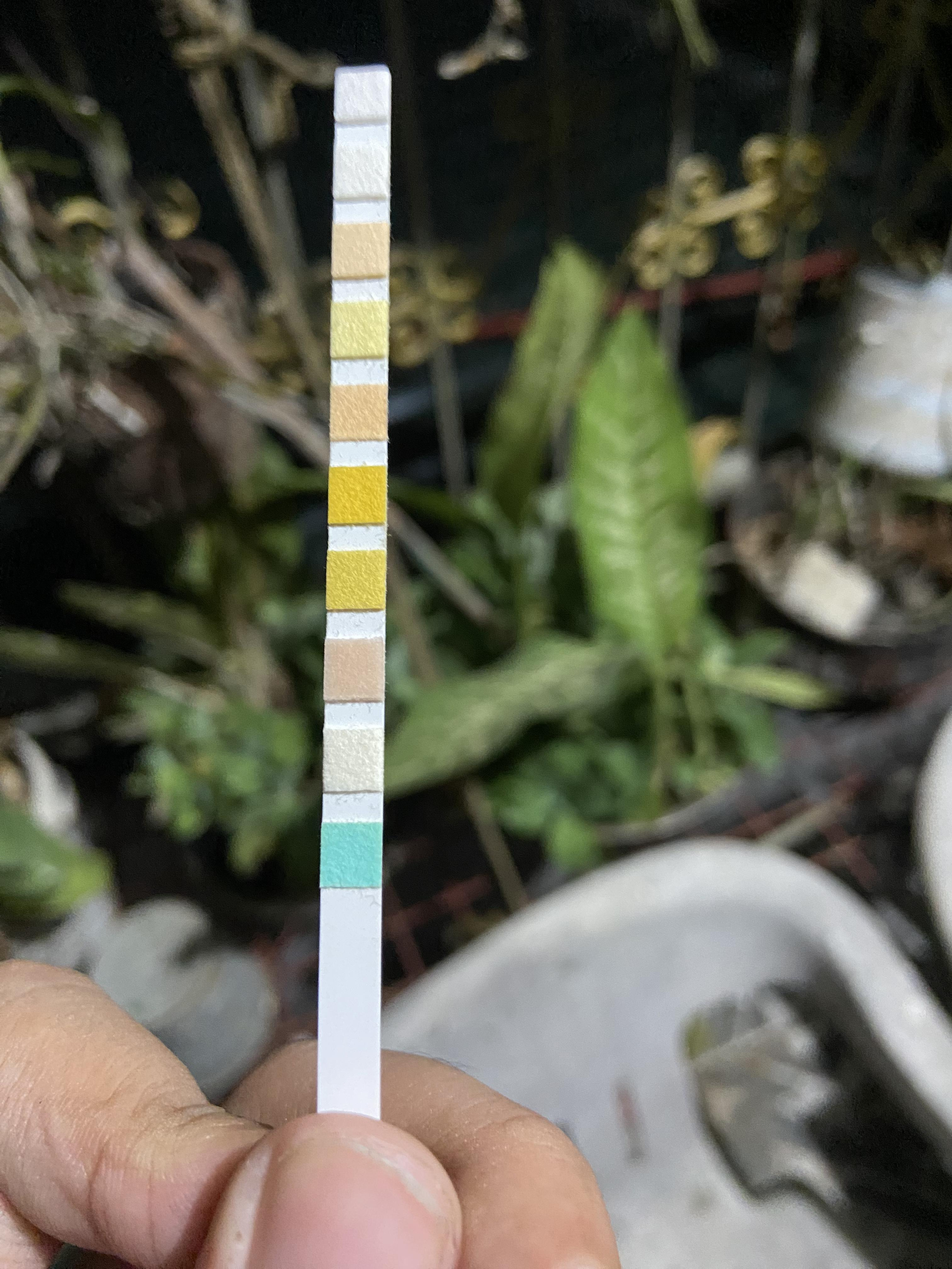Bilirubin: (326, 731, 380, 788)
Blood: (331, 469, 384, 523)
Glucose: (322, 825, 382, 885)
Ketone: (327, 640, 382, 698)
Leukocytes: (337, 75, 388, 115)
Nitrite: (336, 146, 386, 194)
Protein: (333, 305, 385, 354)
SpGravity: (330, 553, 382, 608)
Urobilinogen: (334, 226, 386, 275)
pH: (334, 385, 386, 436)
strip: (318, 64, 390, 1111)
